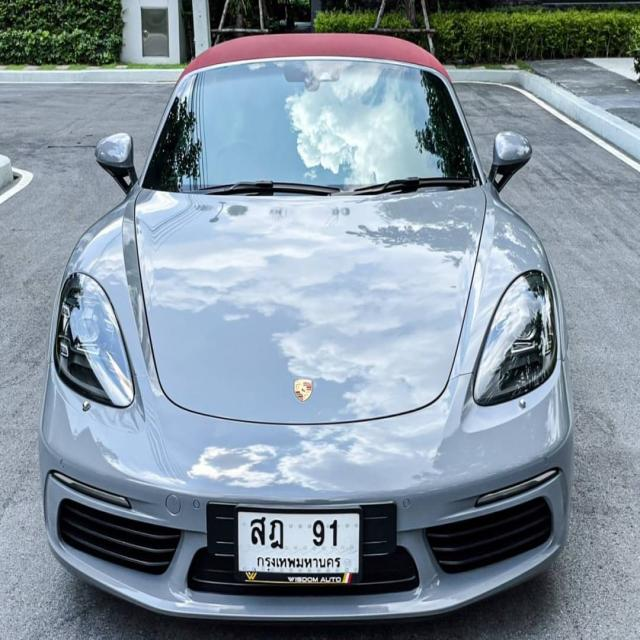license_plate: (236, 500, 363, 588)
